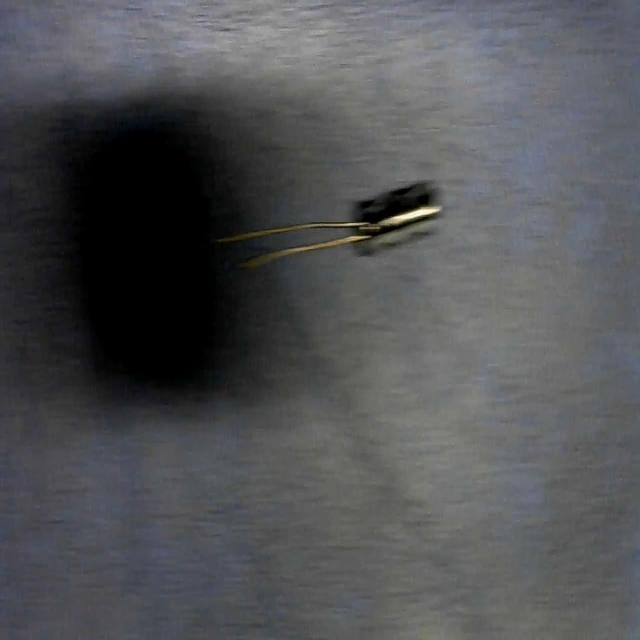capacitor: (218, 183, 448, 273)
